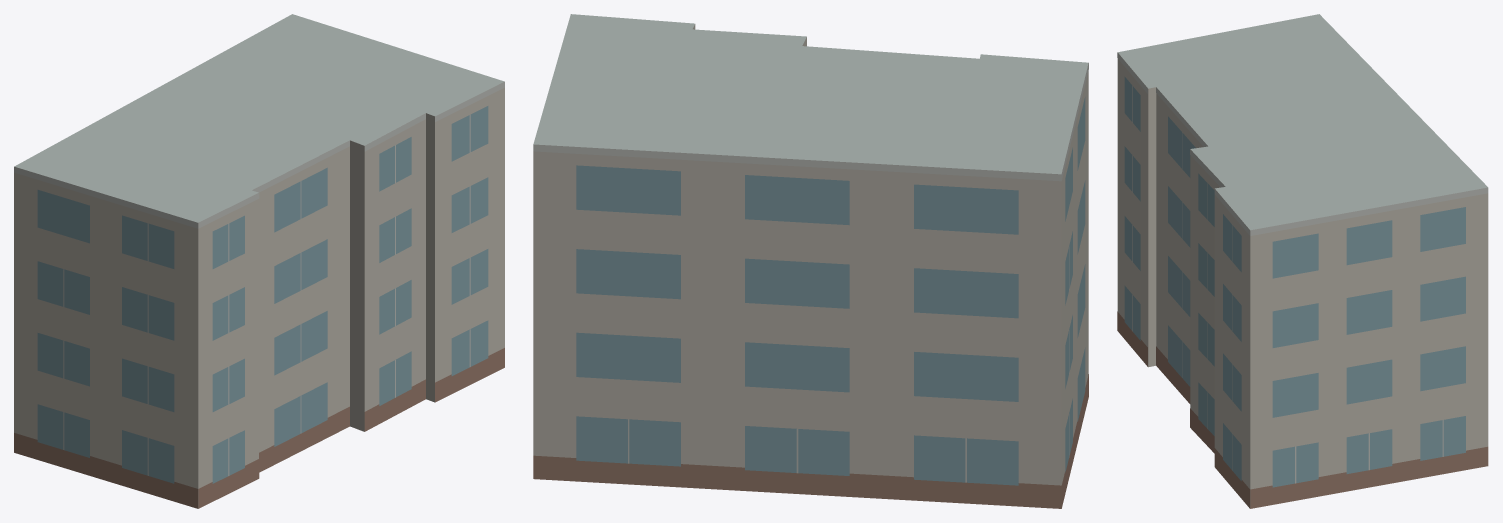
The model's file is survey-upis-32466683.glb.
3 renders of one model, left to right at view 1: azimuth 30°, elevation 25°; view 2: azimuth 150°, elevation 25°; view 3: azimuth 270°, elevation 25°, orthographic. The views are drawn at different scales.
Visible parts, largest first — view 1: survey-upis-32466683.tmp; view 2: survey-upis-32466683.tmp; view 3: survey-upis-32466683.tmp.
Part boxes in pixels (x1,y1,x2,y2): survey-upis-32466683.tmp: (14,14,504,508); survey-upis-32466683.tmp: (533,14,1088,508); survey-upis-32466683.tmp: (1117,14,1488,508).
Size of the model in its own units: 19.49 by 11.7 by 14.12.
